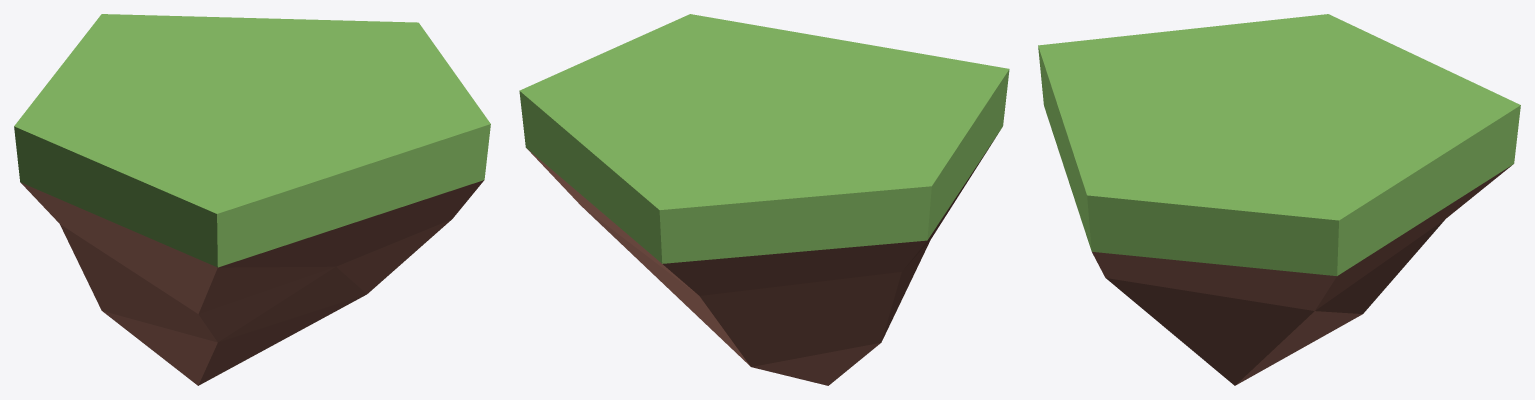
File: SmallIsland4.fbx
3 renders of one model, left to right at view 1: azimuth 30°, elevation 25°; view 2: azimuth 150°, elevation 25°; view 3: azimuth 270°, elevation 25°, orthographic. The views are drawn at different scales.
Parts seen in each view (by area): view 1: SmallIsland4; view 2: SmallIsland4; view 3: SmallIsland4.
Part boxes in pixels (bbox=[...]): SmallIsland4: bbox=[14, 14, 490, 385]; SmallIsland4: bbox=[519, 14, 1009, 385]; SmallIsland4: bbox=[1038, 14, 1520, 385].
Bounding box in the file's own units: 0.7482 × 0.4631 × 0.7392.
